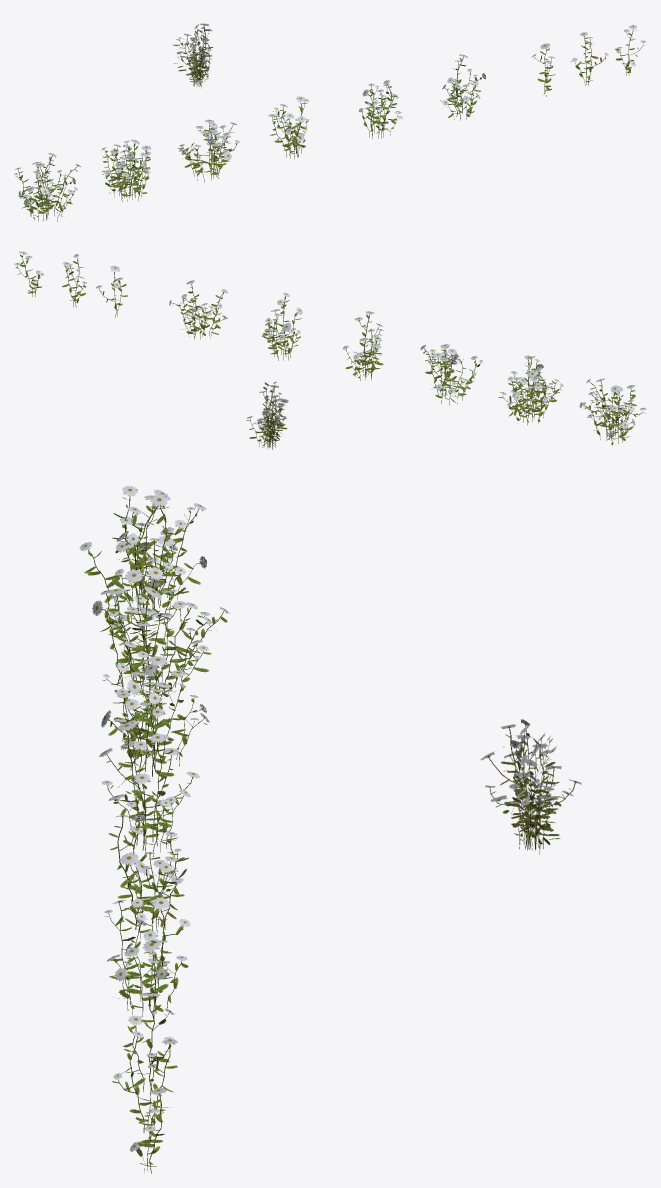
Rendered from daisies.glb.
3 renders of one model, top to bottom at view 1: azimuth 30°, elevation 25°; view 2: azimuth 150°, elevation 25°; view 3: azimuth 270°, elevation 25°, orthographic. The views are drawn at different scales.
Visible parts, largest first — view 1: Daisy_patch_big_2_LOD0, Daisy_patch_big_1_LOD0, Daisy_patch_big_3_LOD0, Daisy_patch_small_1_LOD2_Daisy patch small 1_Billboard_Mat.0, Daisy_patch_small_1_LOD0, Daisy_patch_small_2_LOD0, Daisy_patch_small_3_LOD0, Daisy_2_LOD0, Daisy_3_LOD0, Daisy_1_LOD0; view 2: Daisy_patch_big_2_LOD0, Daisy_patch_big_1_LOD0, Daisy_patch_big_3_LOD0, Daisy_patch_small_1_LOD2_Daisy patch small 1_Billboard_Mat.0, Daisy_patch_small_2_LOD0, Daisy_patch_small_3_LOD0, Daisy_patch_small_1_LOD0, Daisy_2_LOD0, Daisy_1_LOD0, Daisy_3_LOD0; view 3: Daisy_patch_big_2_LOD0, Daisy_patch_big_1_LOD0, Daisy_patch_small_1_LOD2_Daisy patch small 1_Billboard_Mat.0, Daisy_patch_big_3_LOD0, Daisy_patch_small_1_LOD0, Daisy_patch_small_3_LOD0, Daisy_patch_small_2_LOD0, Daisy_2_LOD0.
Boxes of the visible parts, x1,y1,x2,y2 form: Daisy_patch_big_2_LOD0: (101,139,151,201); Daisy_patch_big_1_LOD0: (14,153,80,221); Daisy_patch_big_3_LOD0: (177,119,239,182); Daisy_patch_small_1_LOD2_Daisy patch small 1_Billboard_Mat.0: (173,23,213,86); Daisy_patch_small_1_LOD0: (268,96,308,159); Daisy_patch_small_2_LOD0: (358,80,402,138); Daisy_patch_small_3_LOD0: (440,54,485,120); Daisy_2_LOD0: (570,32,608,85); Daisy_3_LOD0: (615,24,646,75); Daisy_1_LOD0: (531,43,555,96); Daisy_patch_big_2_LOD0: (498,355,563,425); Daisy_patch_big_1_LOD0: (579,378,646,445); Daisy_patch_big_3_LOD0: (420,344,482,405); Daisy_patch_small_1_LOD2_Daisy patch small 1_Billboard_Mat.0: (246,381,288,449); Daisy_patch_small_2_LOD0: (262,292,302,360); Daisy_patch_small_3_LOD0: (169,280,228,339); Daisy_patch_small_1_LOD0: (342,311,383,380); Daisy_2_LOD0: (62,254,86,307); Daisy_1_LOD0: (96,265,128,317); Daisy_3_LOD0: (14,251,44,296); Daisy_patch_big_2_LOD0: (92,567,230,696); Daisy_patch_big_1_LOD0: (79,486,206,619); Daisy_patch_small_1_LOD2_Daisy patch small 1_Billboard_Mat.0: (480,719,581,854); Daisy_patch_big_3_LOD0: (101,656,209,776); Daisy_patch_small_1_LOD0: (99,722,199,856); Daisy_patch_small_3_LOD0: (104,897,190,1018); Daisy_patch_small_2_LOD0: (108,814,188,938); Daisy_2_LOD0: (112,1031,177,1132).
Size of what is drawn, in the model's own units: 7.55 by 0.7226 by 2.63.
Materials: 2 (2 with a texture image).
